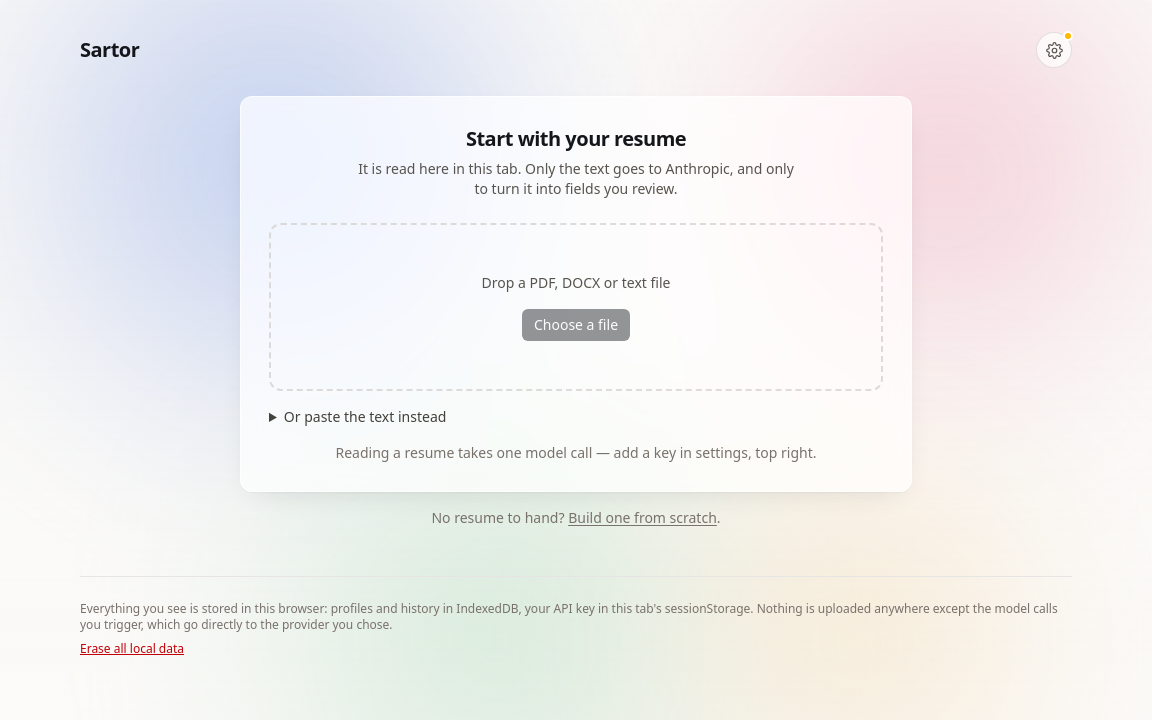
App › keeps the provider settings one click away
Expected: the heading "Sartor" is shown, [80, 36, 139, 64]
Click the button named "settings" at (1054, 50), box [1036, 32, 1072, 68]
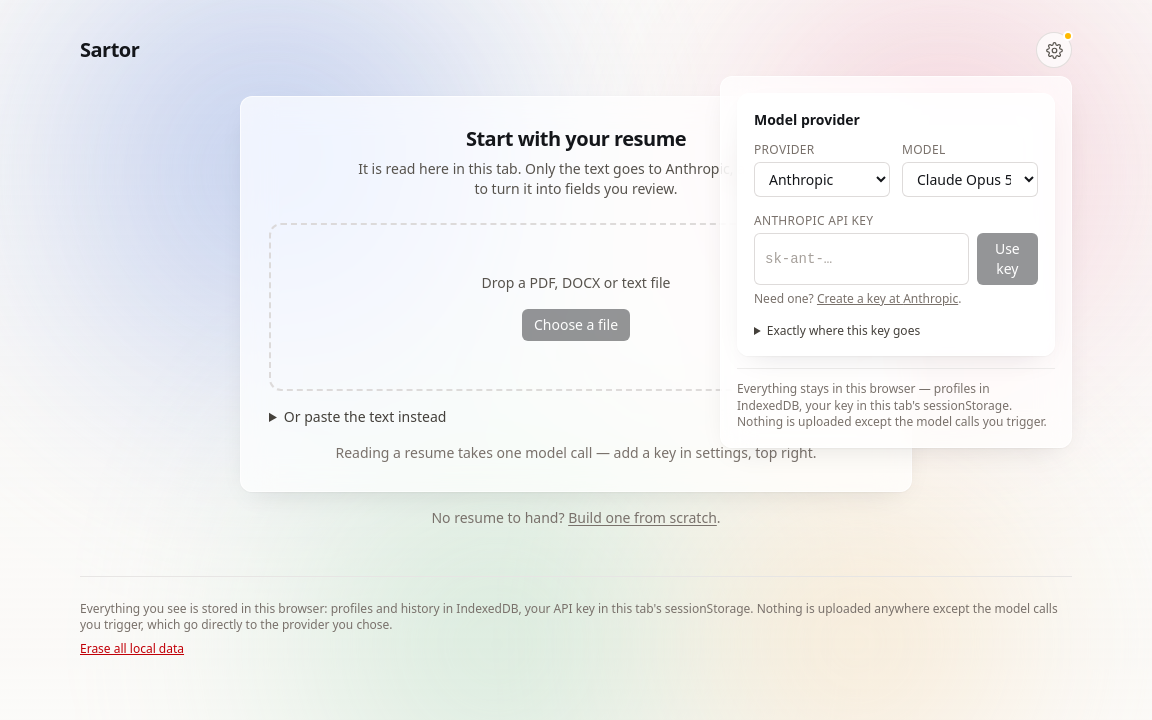
Expected: the dropdown labelled "Provider" is shown, [754, 162, 890, 197]
Expected: the heading "Model provider" is shown, [754, 110, 860, 129]
